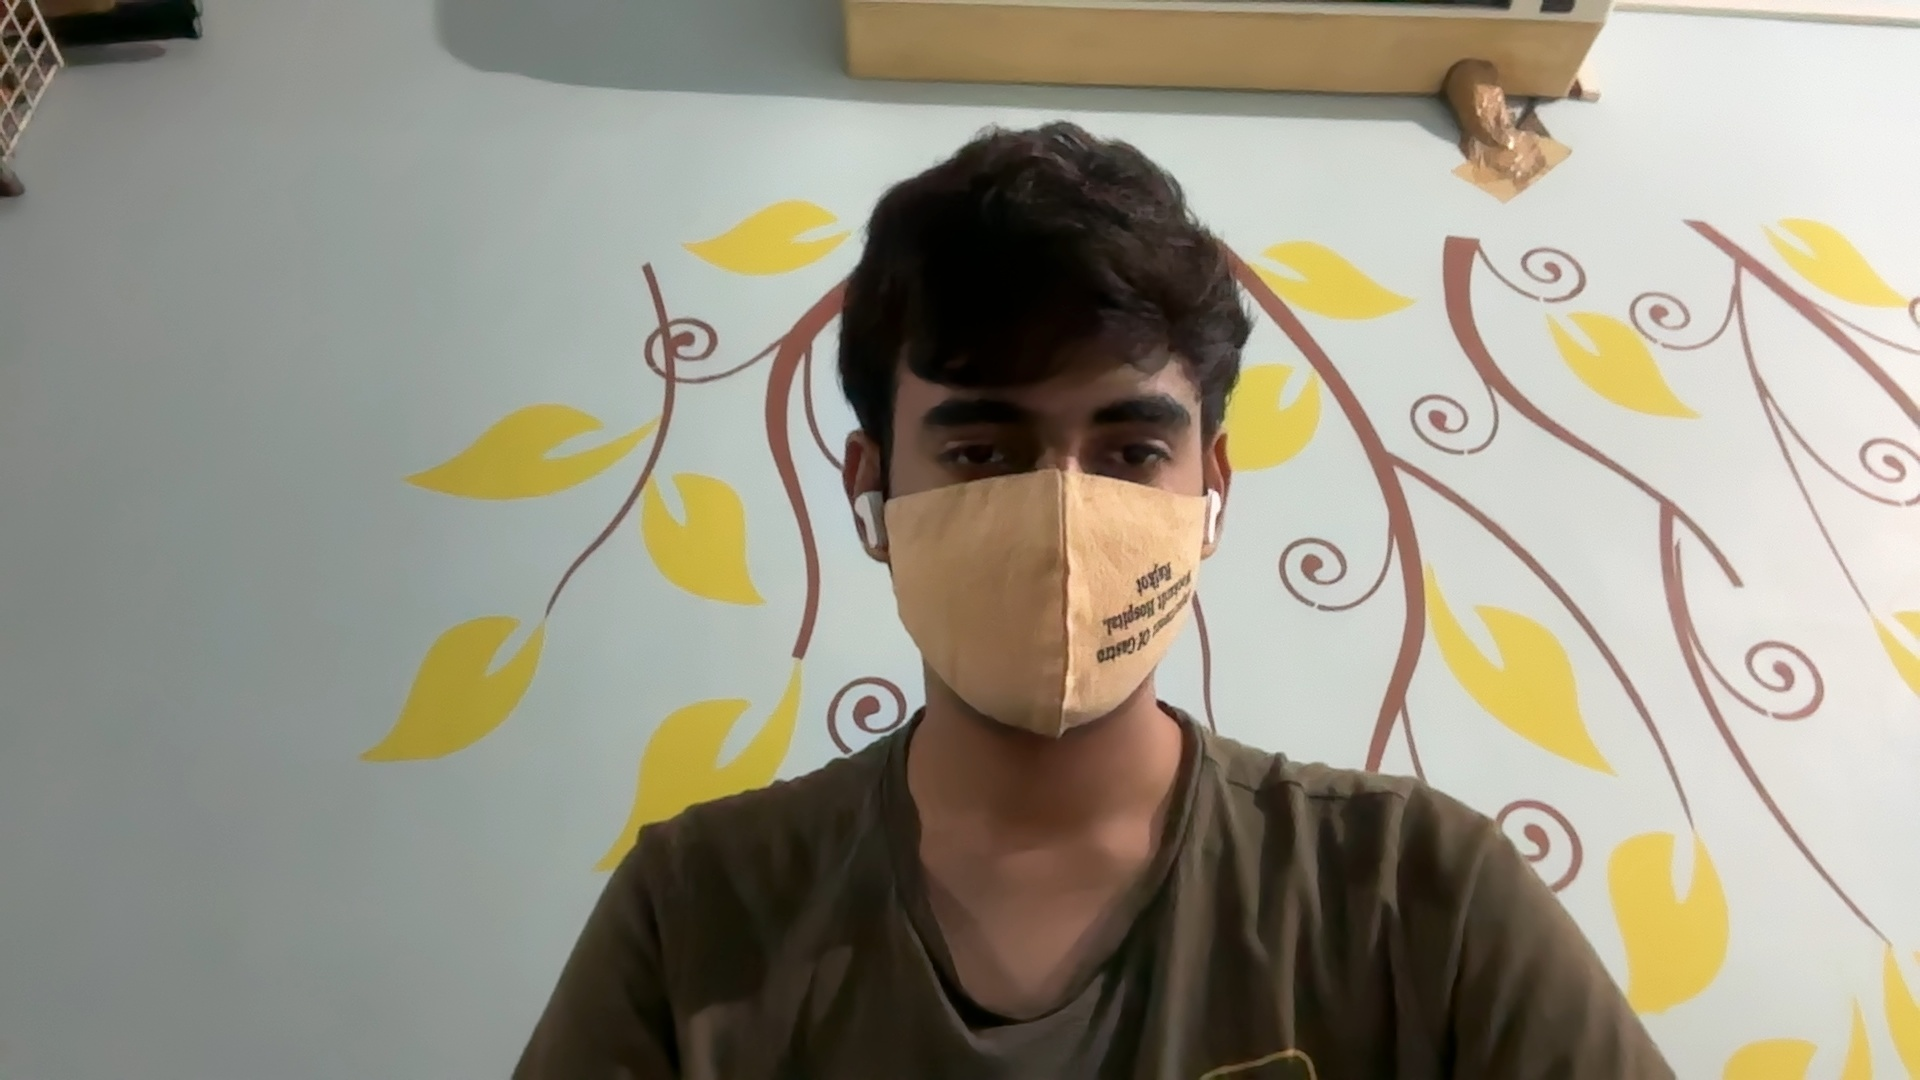Mask: (862, 484, 1223, 748)
